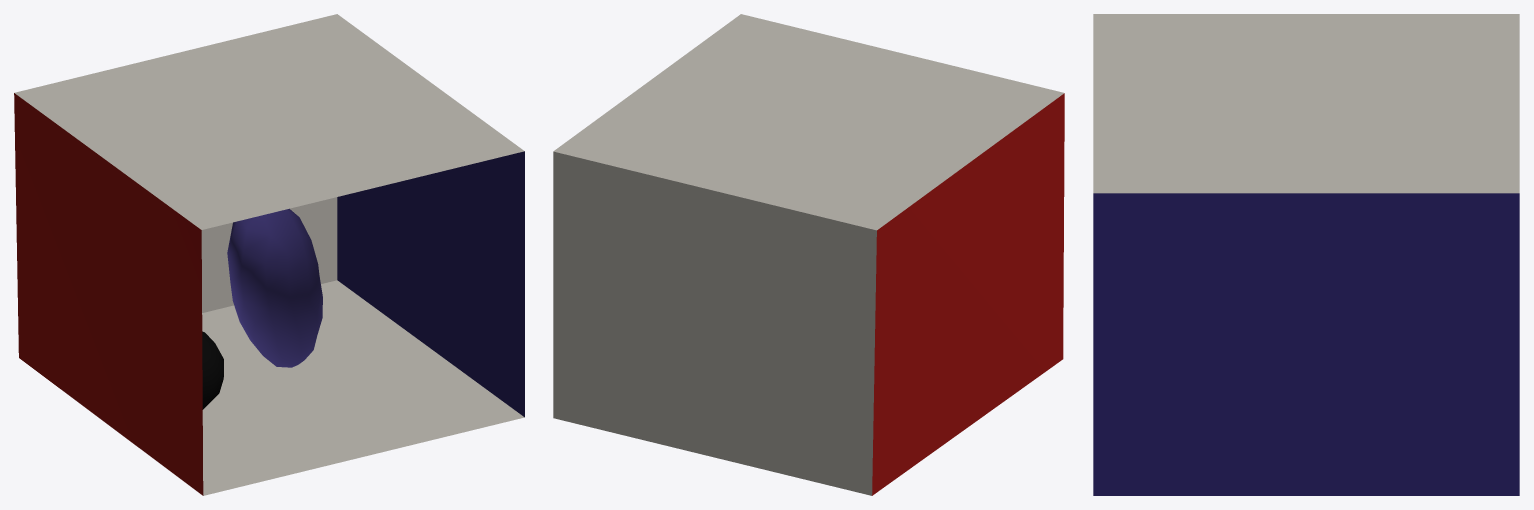
Rendered from CornellBox-Ellipsoid-316.obj.
3 renders of one model, left to right at view 1: azimuth 30°, elevation 25°; view 2: azimuth 150°, elevation 25°; view 3: azimuth 270°, elevation 25°, orthographic. The views are drawn at different scales.
Visible parts, largest first — view 1: ceiling, leftWall, floor, rightWall, leftSphere, backWall, rightSphere; view 2: backWall, ceiling, leftWall; view 3: rightWall, ceiling.
Part boxes in pixels (x1=…): ceiling: x1=14, y1=14, x2=524, y2=229; leftWall: x1=14, y1=93, x2=203, y2=495; floor: x1=202, y1=280, x2=524, y2=495; rightWall: x1=337, y1=151, x2=524, y2=417; leftSphere: x1=227, y1=208, x2=322, y2=367; backWall: x1=201, y1=197, x2=337, y2=312; rightSphere: x1=202, y1=331, x2=223, y2=409; backWall: x1=553, y1=151, x2=876, y2=495; ceiling: x1=553, y1=14, x2=1064, y2=230; leftWall: x1=872, y1=93, x2=1064, y2=495; rightWall: x1=1093, y1=193, x2=1519, y2=495; ceiling: x1=1093, y1=14, x2=1519, y2=193.
Size of the model in its own units: 2.02 by 1.59 by 2.03.
